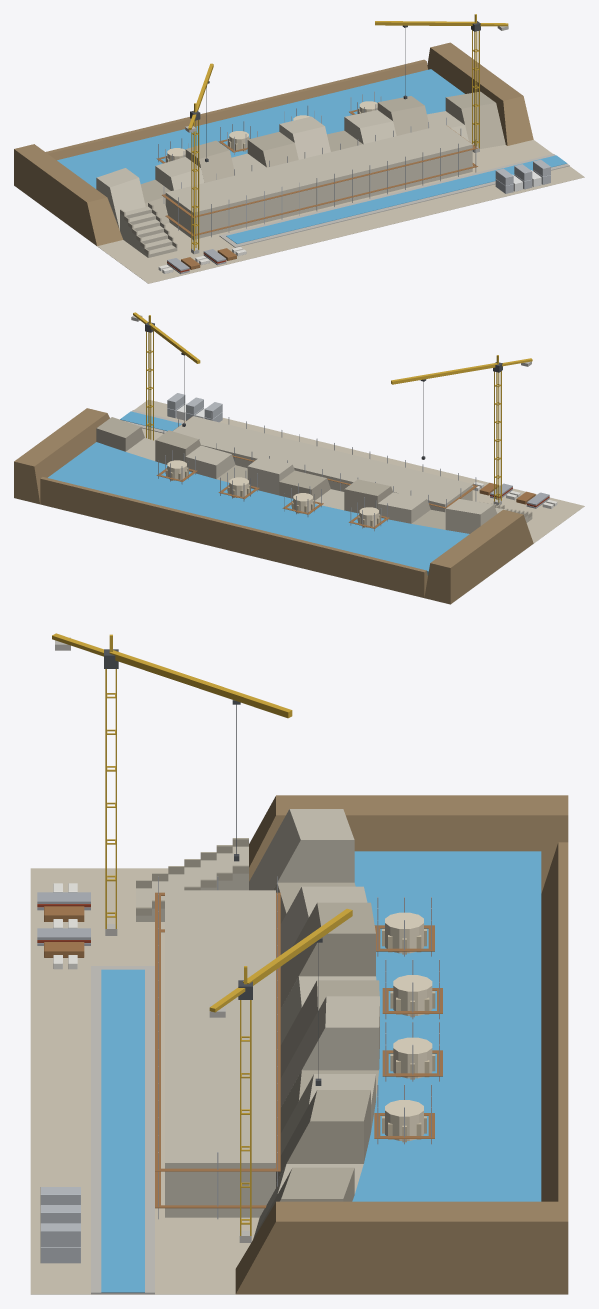
The model's file is mega_hydrodam_2.glb.
The picture shows the model from 3 angles, top to bottom: view 1: azimuth 30°, elevation 25°; view 2: azimuth 150°, elevation 25°; view 3: azimuth 270°, elevation 25°; orthographic projection. The views are drawn at different scales.
Visible parts, largest first — view 1: mega_hydrodam_2; view 2: mega_hydrodam_2; view 3: mega_hydrodam_2.
Part boxes in pixels (x1=…): mega_hydrodam_2: x1=14, y1=14, x2=584, y2=283; mega_hydrodam_2: x1=14, y1=312, x2=584, y2=604; mega_hydrodam_2: x1=30, y1=633, x2=568, y2=1294.
Bounding box in the file's own units: 150 × 49 × 80.
